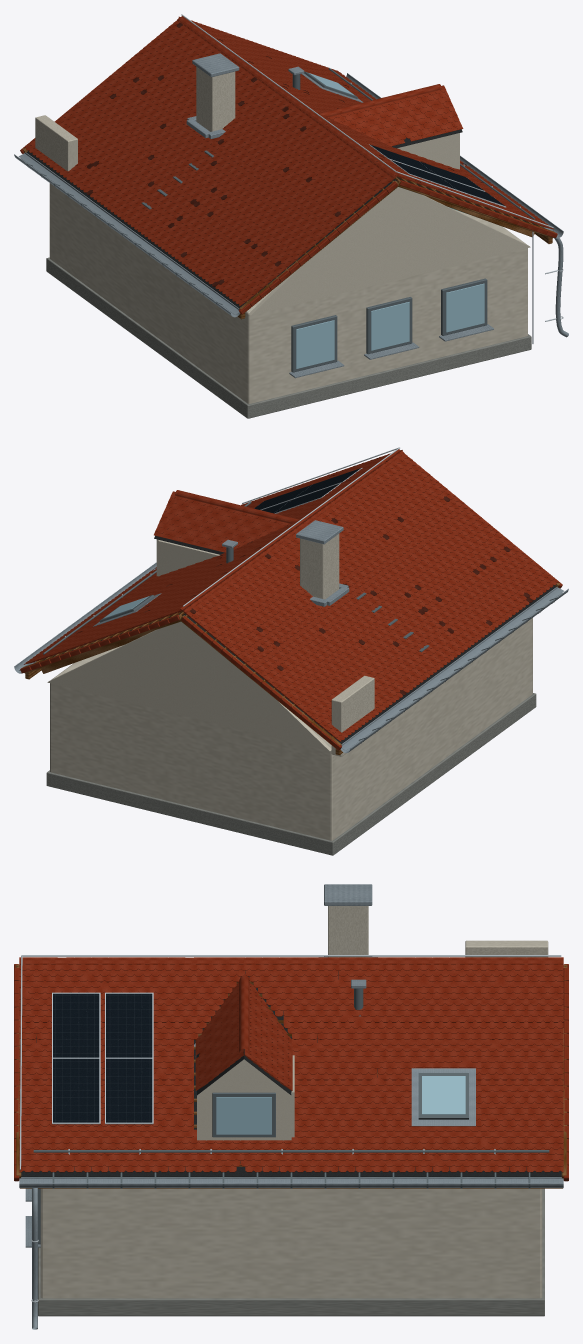
The model's file is uebersicht.glb.
3 views of the same model, one above another, from view 1: azimuth 30°, elevation 25°; view 2: azimuth 150°, elevation 25°; view 3: azimuth 270°, elevation 25° (orthographic). The views are drawn at different scales.
Visible parts, largest first — view 1: Bauteil_s01_deckung, Bauteil_g02_tragwerk, Sockelzone, Bauteil_g02_tragwerk.002, Bauteil_s10_deckung, Bauteil_s04_deckung, Bauteil_g02_tragwerk.001, Bauteil_s03_deckung, Schornsteinschaft, Bauteil_s02_deckung, Anschlusswand Nachbarbauteil, Bauteil_a01_deckung.001 (+11 smaller); view 2: Bauteil_s01_deckung, Bauteil_g02_tragwerk, Sockelzone, Bauteil_s10_deckung, Bauteil_s04_deckung, Bauteil_s03_deckung, Schornsteinschaft, Bauteil_s02_deckung, Anschlusswand Nachbarbauteil, Bauteil_s05_deckung, Bauteil_a01_deckung.001, Bauteil_s10_tragwerk (+7 smaller); view 3: Bauteil_s01_deckung, Bauteil_g02_tragwerk, Bauteil_a01_deckung.001, Sockelzone, Bauteil_s10_deckung, Bauteil_s03_deckung, Bauteil_s10_tragwerk, Bauteil_s05_deckung, Bauteil_g01_zusatzebene, Bauteil_s02_deckung, Gaubenfenster Glas, Bauteil_s04_deckung (+13 smaller).
Part boxes in pixels (x1,y1,x2,y2): Bauteil_s01_deckung: [23, 16, 554, 305]; Bauteil_g02_tragwerk: [49, 183, 530, 403]; Sockelzone: [46, 257, 531, 418]; Bauteil_g02_tragwerk.002: [296, 283, 484, 368]; Bauteil_s10_deckung: [328, 85, 463, 146]; Bauteil_s04_deckung: [20, 70, 557, 314]; Bauteil_g02_tragwerk.001: [291, 278, 487, 372]; Bauteil_s03_deckung: [14, 73, 563, 317]; Schornsteinschaft: [196, 66, 235, 131]; Bauteil_s02_deckung: [18, 153, 558, 314]; Anschlusswand Nachbarbauteil: [35, 115, 77, 171]; Bauteil_a01_deckung.001: [370, 144, 504, 205]; Bauteil_s01_deckung: [23, 449, 558, 741]; Bauteil_g02_tragwerk: [47, 618, 532, 840]; Sockelzone: [46, 693, 536, 855]; Bauteil_s10_deckung: [154, 491, 290, 552]; Bauteil_s04_deckung: [20, 489, 562, 750]; Bauteil_s03_deckung: [14, 562, 568, 753]; Schornsteinschaft: [300, 534, 339, 599]; Bauteil_s02_deckung: [19, 587, 563, 750]; Anschlusswand Nachbarbauteil: [331, 675, 374, 756]; Bauteil_s05_deckung: [177, 450, 404, 615]; Bauteil_a01_deckung.001: [254, 468, 360, 513]; Bauteil_s10_tragwerk: [156, 539, 219, 576]; Bauteil_s01_deckung: [19, 957, 563, 1172]; Bauteil_g02_tragwerk: [40, 1188, 542, 1298]; Bauteil_a01_deckung.001: [53, 993, 152, 1122]; Sockelzone: [38, 1188, 544, 1316]; Bauteil_s10_deckung: [195, 974, 292, 1090]; Bauteil_s03_deckung: [19, 1177, 563, 1187]; Bauteil_s10_tragwerk: [197, 1055, 294, 1140]; Bauteil_s05_deckung: [19, 959, 563, 965]; Bauteil_g01_zusatzebene: [21, 971, 561, 1176]; Bauteil_s02_deckung: [19, 1179, 563, 1183]; Gaubenfenster Glas: [216, 1097, 271, 1134]; Bauteil_s04_deckung: [14, 964, 568, 1181].
Size of the model in its own units: 10.67 by 7.16 by 11.73.
Materials: 13 (9 with a texture image).
